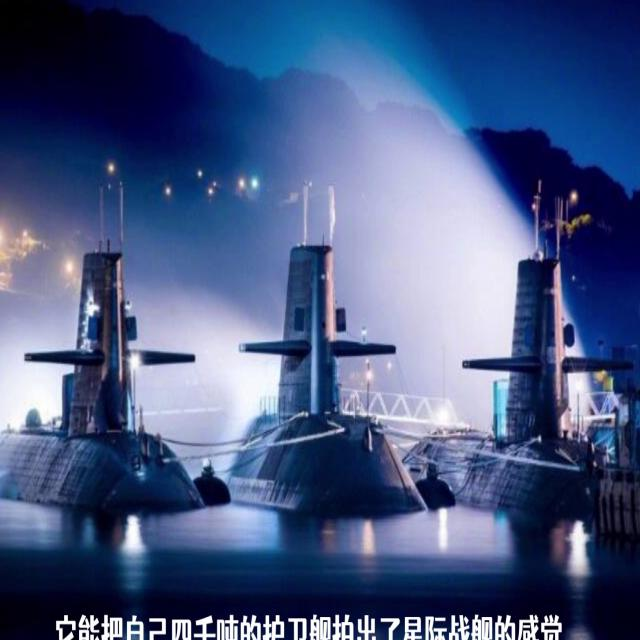navalvessels: (434, 246, 632, 548), (220, 240, 400, 538), (8, 240, 179, 539)
